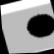correct: (20, 7, 54, 45)
